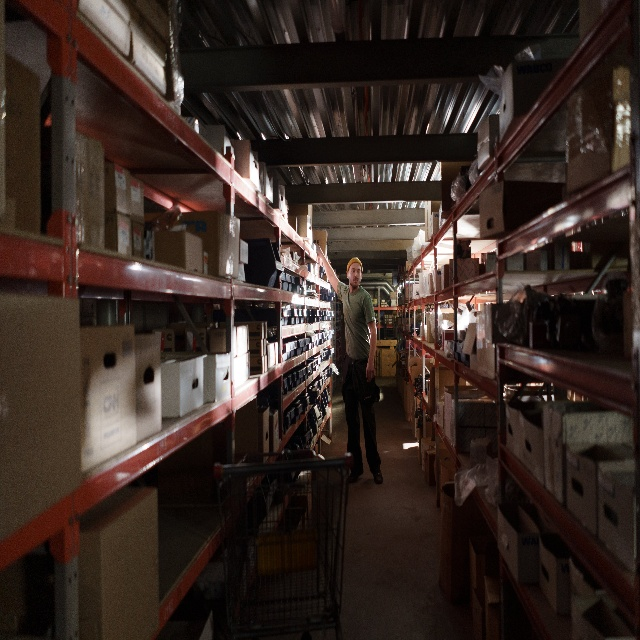Sin_guantes: (366, 359, 375, 382), (314, 243, 322, 258)
